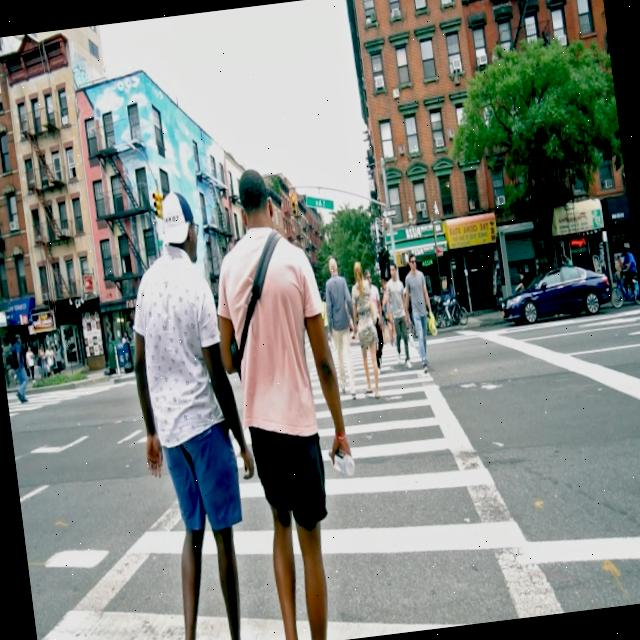Persona: (198, 146, 379, 640), (107, 161, 257, 640), (318, 253, 362, 408), (345, 255, 388, 405), (398, 244, 443, 376), (377, 256, 415, 374)
